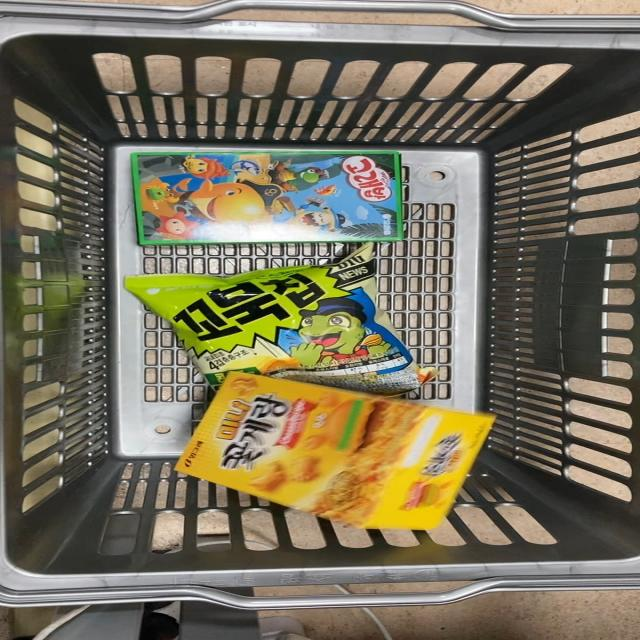ggobukchip: (114, 269, 478, 385)
goraebob: (105, 144, 466, 247)
minicrab: (167, 379, 500, 523)
